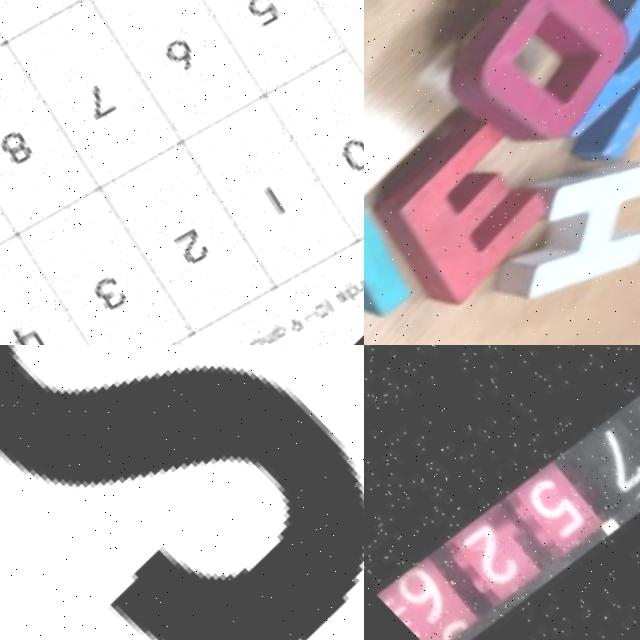0: (320, 111, 364, 177)
1: (240, 159, 299, 220)
2: (449, 511, 531, 595), (150, 200, 219, 271)
3: (71, 254, 136, 321)
4: (0, 301, 53, 345)
5: (513, 462, 595, 546), (227, 0, 294, 34)
6: (383, 554, 460, 632), (144, 10, 211, 78)
7: (575, 412, 640, 498), (65, 64, 128, 128)
8: (0, 107, 45, 173)
H: (451, 92, 640, 345)
O: (407, 0, 640, 184)
S: (0, 345, 364, 640)
V: (364, 141, 440, 345)
